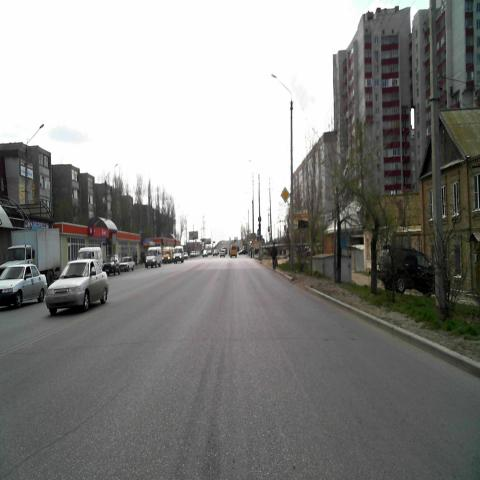2_1: (282, 186, 290, 202)
